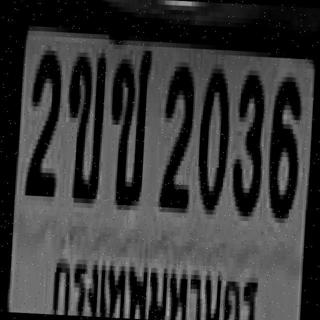A02: (62, 47, 105, 199)
A10: (105, 45, 151, 206)
N00: (194, 63, 231, 210)
N02: (24, 45, 62, 192), (157, 61, 194, 208)
N03: (230, 70, 264, 212)
N06: (265, 72, 301, 214)
P04: (49, 244, 261, 320)
